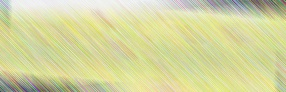Bacterial_Leaf_Blight: (218, 28, 263, 43), (47, 63, 108, 74), (140, 82, 195, 92), (101, 42, 136, 57), (88, 11, 116, 29), (144, 62, 180, 74), (173, 29, 206, 40), (133, 20, 152, 39), (0, 67, 24, 79), (57, 29, 80, 39), (165, 52, 180, 66), (29, 29, 45, 41), (230, 49, 248, 58), (156, 16, 168, 28), (274, 54, 284, 66), (247, 63, 260, 72), (232, 70, 244, 79), (280, 36, 286, 48), (273, 15, 281, 22)
